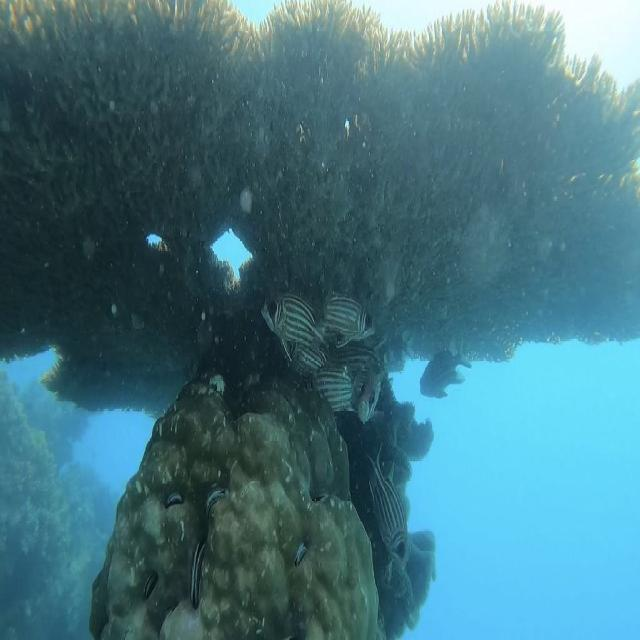Asker Baligi: (361, 434, 415, 585), (264, 280, 328, 366), (315, 284, 379, 350), (338, 376, 396, 428)
